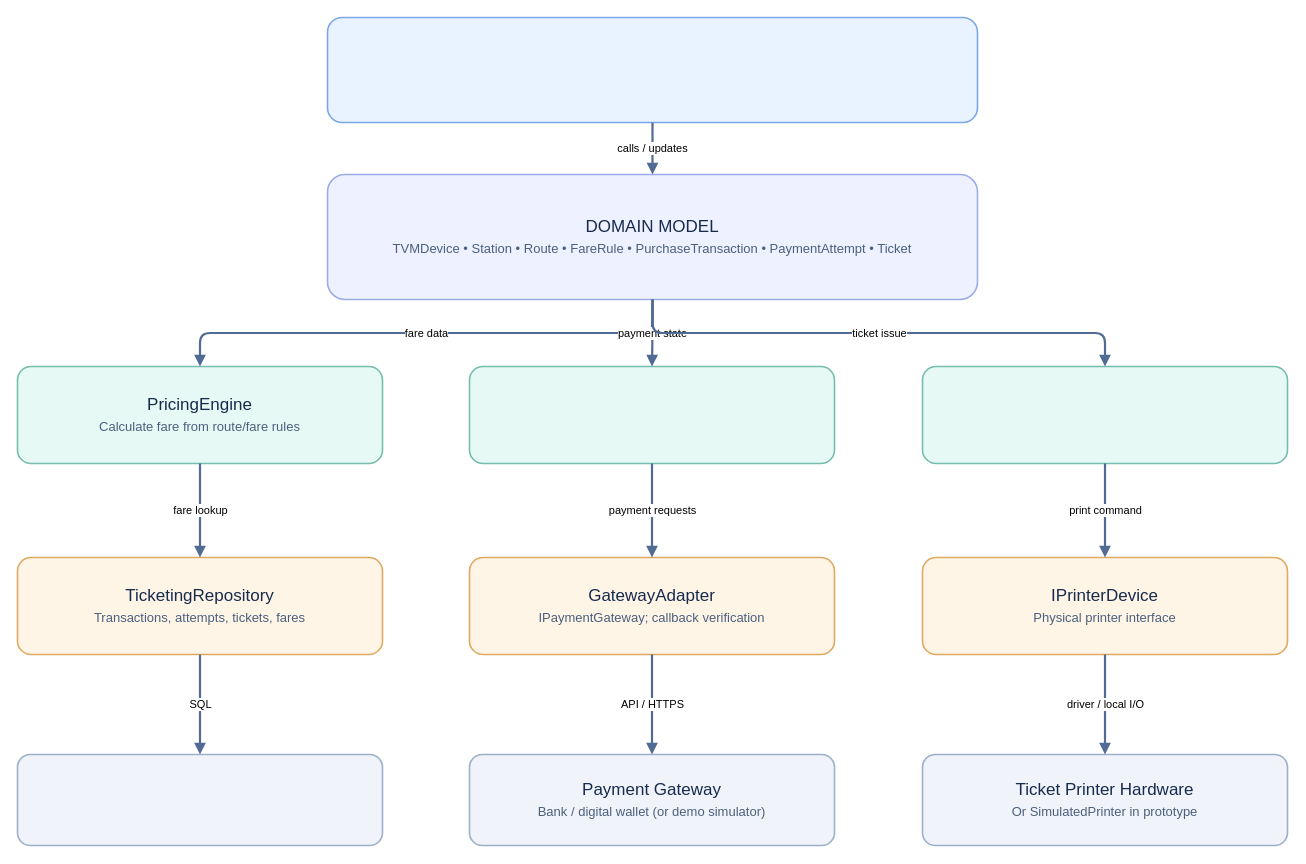
Image size: 1306x864. Some labels were removed from this diagram. Each missing label, with the centre of its shape:
"MSSQL Database Persist state and idempotency records" goes at (x=199, y=799).
"PaymentProcessor Authorize / QR / verify / reconcile" goes at (x=651, y=414).
"PRESENTATION / CONTROL TVMScreen • TVMController" goes at (x=652, y=69).
"PrinterService + BarcodeGenerator Prepare and print barcode ticket" goes at (x=1104, y=414).
